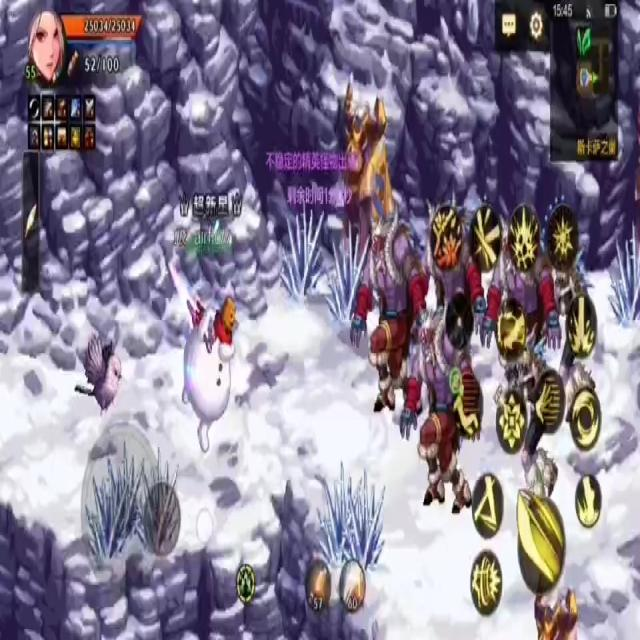player: (176, 269, 239, 456)
